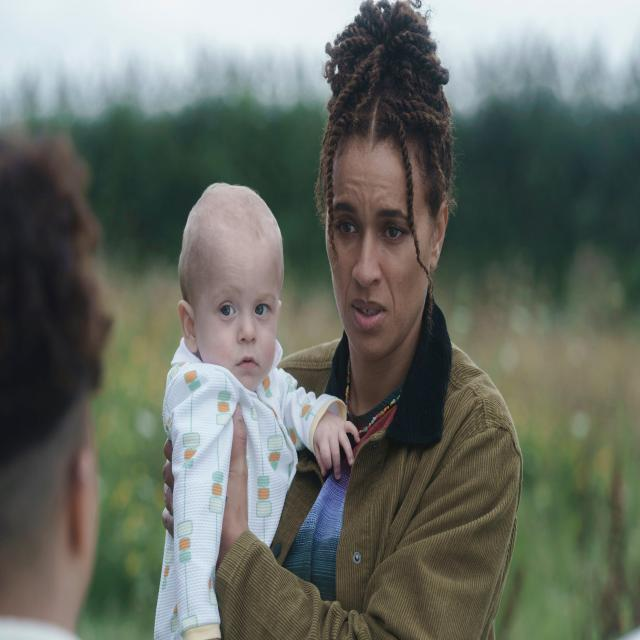adult: (163, 4, 522, 640), (0, 130, 118, 640)
child: (164, 184, 358, 640)
